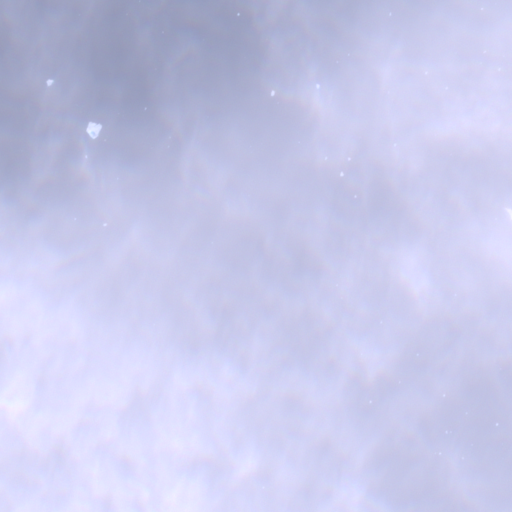Iceberg: (86, 122, 101, 137), (47, 79, 53, 85), (271, 91, 274, 95), (340, 171, 342, 175), (316, 84, 318, 87), (237, 13, 239, 15), (144, 107, 146, 109), (103, 224, 105, 226), (389, 13, 390, 15), (348, 158, 349, 159), (354, 196, 355, 197)
